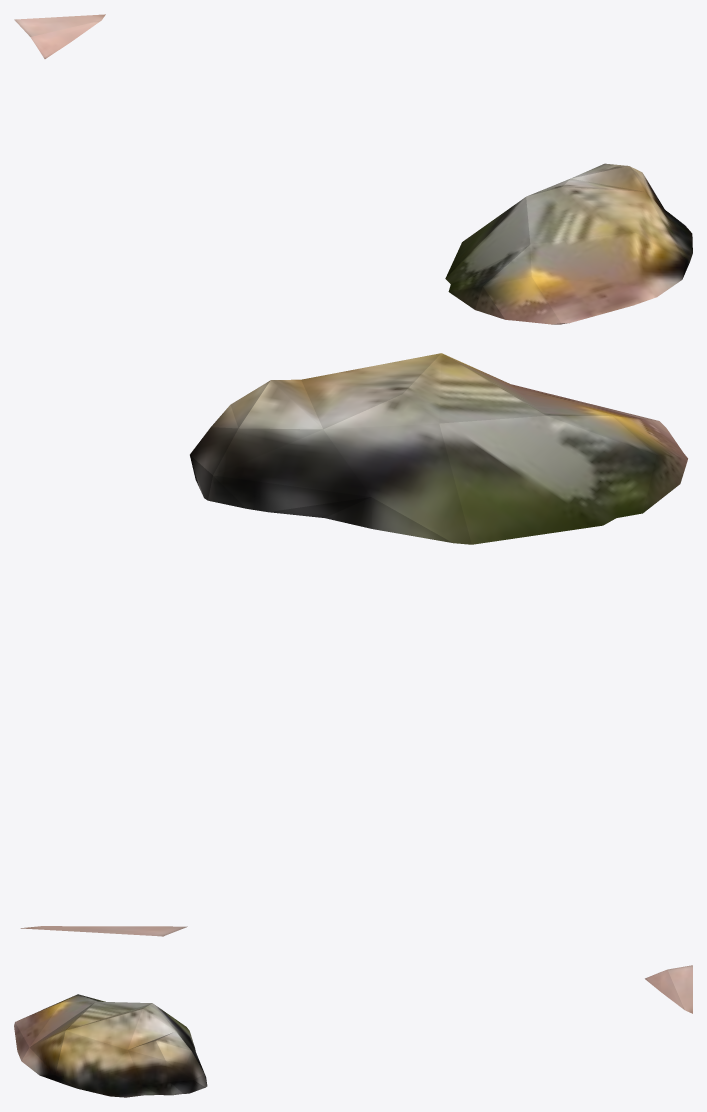
3 renders of one model, top to bottom at view 1: azimuth 30°, elevation 25°; view 2: azimuth 150°, elevation 25°; view 3: azimuth 270°, elevation 25°, orthographic. The views are drawn at different scales.
Size of the model in its own units: 0.6764 by 0.1206 by 1.63.
1 material, 1 textured.
